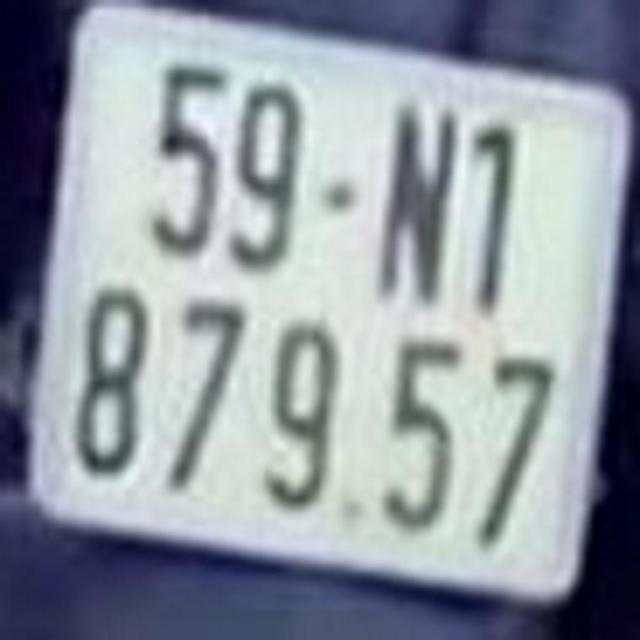1: (467, 117, 517, 312)
5: (382, 334, 462, 534), (151, 55, 224, 259)
7: (166, 290, 247, 489), (480, 351, 558, 548)
8: (75, 282, 146, 481)
9: (264, 314, 338, 511), (230, 78, 300, 268)
N: (377, 99, 458, 298)
